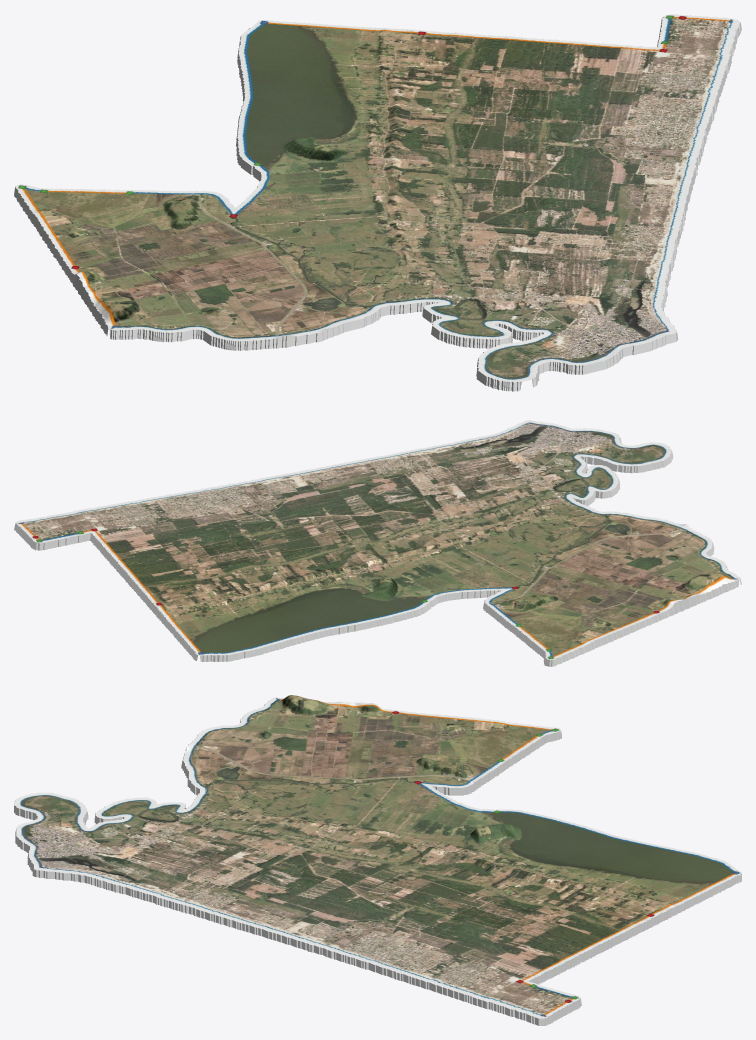
3 renders of one model, top to bottom at view 1: azimuth 30°, elevation 25°; view 2: azimuth 150°, elevation 25°; view 3: azimuth 270°, elevation 25°, orthographic. The views are drawn at different scales.
Size of the model in its own units: 1 by 0.0225 by 0.9567.
1 material, 1 textured.
